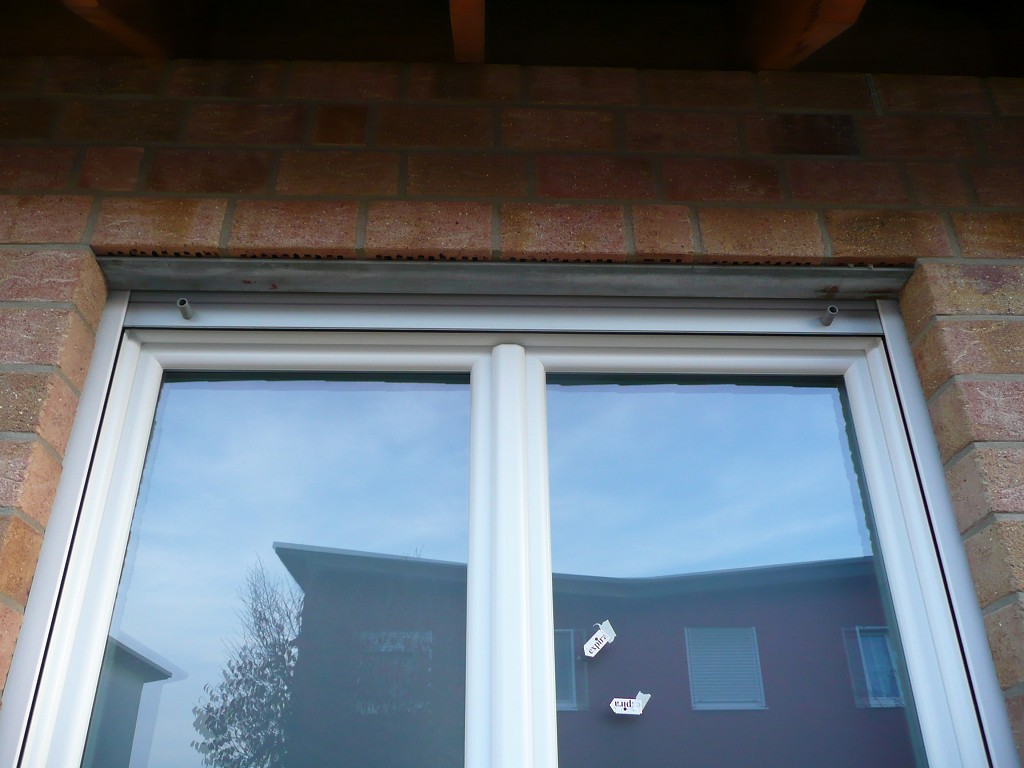windows: (56, 250, 990, 768)
